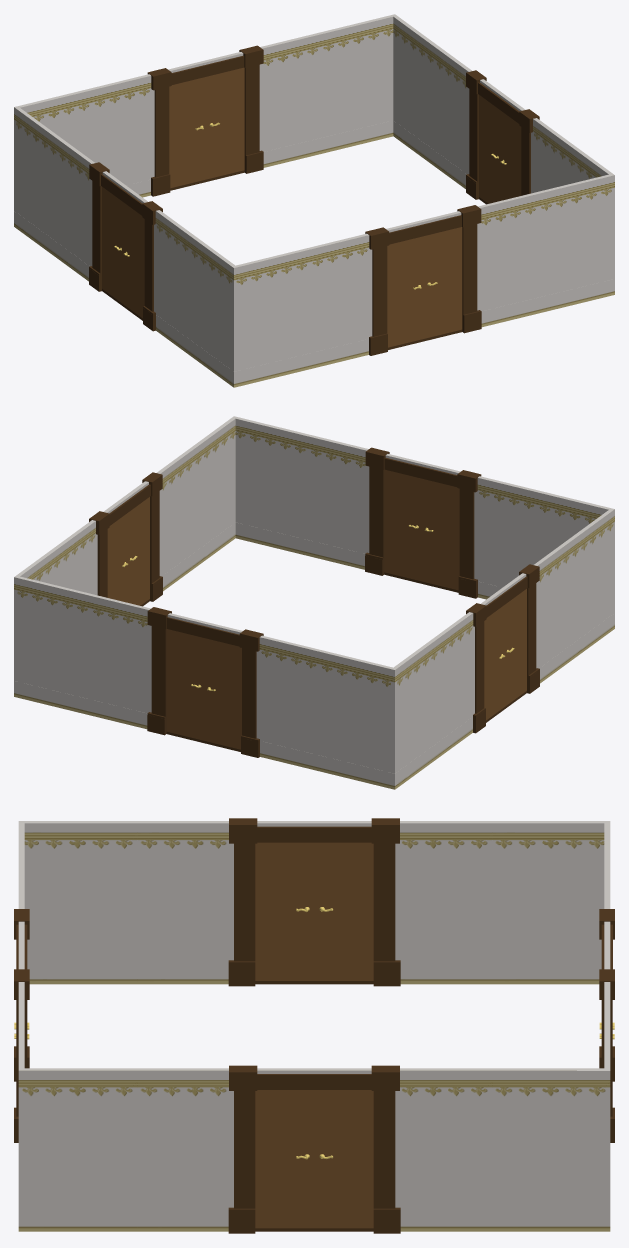
File: Geo_Room5x5_4Doors_01.fbx
The picture shows the model from 3 angles, top to bottom: view 1: azimuth 30°, elevation 25°; view 2: azimuth 150°, elevation 25°; view 3: azimuth 270°, elevation 25°; orthographic projection. The views are drawn at different scales.
Parts seen in each view (by area): view 1: geo_wallTopx5_02 (×2), geo_wallTopx5_06 (×2), geo_door_02 (×2), geo_door_01 (×2), geo_wallCulledx5_02 (×2), geo_door_04 (×2), geo_door_03 (×2), geo_wallCulledx5_06 (×2), geo_doorFrameSide_05 (×2), geo_doorFrameSide_01 (×2), geo_doorFrameTop_01 (×2), geo_doorFrameSide_010 (×2) (+2 smaller); view 2: geo_wallTopx5_02 (×2), geo_wallTopx5_06 (×2), geo_door_02 (×2), geo_door_01 (×2), geo_wallCulledx5_02 (×2), geo_door_03 (×2), geo_wallCulledx5_06 (×2), geo_door_04 (×2), geo_doorFrameSide_05 (×2), geo_doorFrameSide_01 (×2), geo_doorFrameTop_01 (×2), geo_doorFrameSide_013 (×2) (+2 smaller); view 3: geo_wallTopx5_06 (×2), geo_wallCulledx5_06 (×2), geo_door_03 (×2), geo_door_04 (×2), geo_doorFrameSide_010 (×2), geo_doorFrameSide_013 (×2), geo_doorFrameTop_02 (×2), geo_wallTopx5_02 (×2), geo_doorFrameSide_011 (×2), geo_doorFrameSide_012 (×2), geo_doorFrameSide_05 (×2), geo_doorFrameSide_015 (×2) (+1 smaller).
Boxes of the visible parts, box(x1,y1,x2,y2) form: geo_wallTopx5_02 (×2): box(14, 14, 614, 371); geo_wallTopx5_06 (×2): box(16, 14, 613, 371); geo_door_02 (×2): box(206, 67, 462, 338); geo_door_01 (×2): box(169, 77, 424, 347); geo_wallCulledx5_02 (×2): box(14, 120, 614, 387); geo_door_04 (×2): box(102, 95, 500, 304); geo_door_03 (×2): box(124, 111, 521, 318); geo_wallCulledx5_06 (×2): box(16, 120, 466, 387); geo_doorFrameSide_05 (×2): box(244, 64, 477, 314); geo_doorFrameSide_01 (×2): box(154, 86, 387, 336); geo_doorFrameTop_01 (×2): box(171, 55, 461, 244); geo_doorFrameSide_010 (×2): box(92, 89, 478, 273); geo_wallTopx5_02 (×2): box(15, 416, 614, 773); geo_wallTopx5_06 (×2): box(14, 417, 614, 773); geo_door_02 (×2): box(166, 469, 422, 740); geo_door_01 (×2): box(204, 479, 459, 749); geo_wallCulledx5_02 (×2): box(17, 522, 502, 789); geo_door_03 (×2): box(128, 497, 526, 706); geo_wallCulledx5_06 (×2): box(14, 522, 614, 789); geo_door_04 (×2): box(107, 513, 504, 720); geo_doorFrameSide_05 (×2): box(151, 466, 384, 716); geo_doorFrameSide_01 (×2): box(242, 488, 474, 738); geo_doorFrameTop_01 (×2): box(166, 457, 457, 646); geo_doorFrameSide_013 (×2): box(150, 491, 536, 675); geo_wallTopx5_06 (×2): box(18, 821, 610, 1210); geo_wallCulledx5_06 (×2): box(18, 962, 610, 1231); geo_door_03 (×2): box(255, 842, 314, 1228); geo_door_04 (×2): box(314, 842, 373, 1228); geo_doorFrameSide_010 (×2): box(373, 843, 395, 1208); geo_doorFrameSide_013 (×2): box(234, 843, 255, 1208); geo_doorFrameTop_02 (×2): box(257, 826, 371, 1089); geo_wallTopx5_02 (×2): box(18, 821, 610, 1070); geo_doorFrameSide_011 (×2): box(371, 818, 399, 1090); geo_doorFrameSide_012 (×2): box(229, 818, 257, 1090); geo_doorFrameSide_05 (×2): box(16, 1000, 612, 1116); geo_doorFrameSide_015 (×2): box(373, 965, 400, 1233).
Bounding box in the file's own units: 508 × 151 × 508.
Materials: 5 (1 with a texture image).
